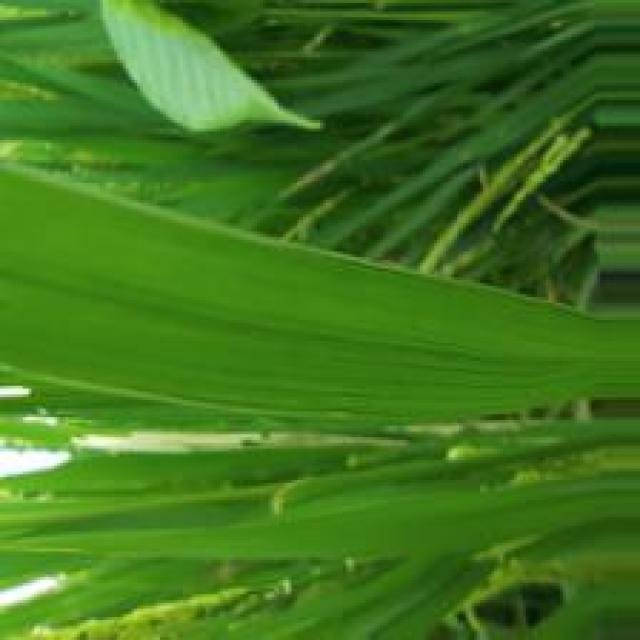HealthyLeaf: (5, 177, 562, 409)
